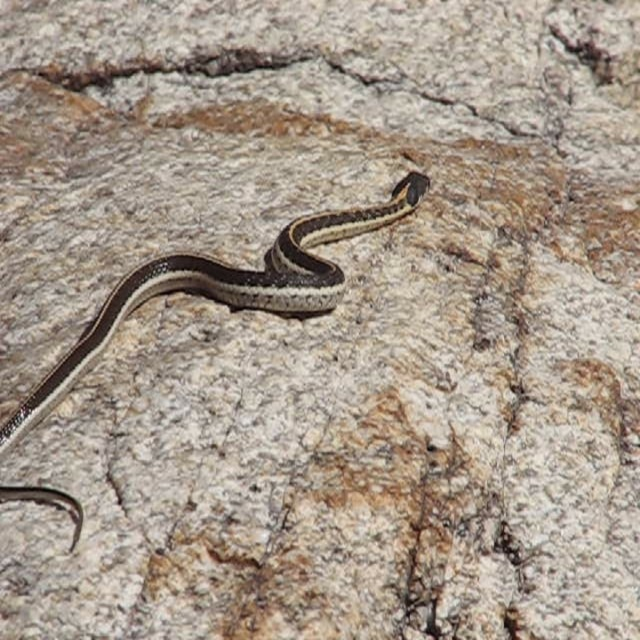Snake: (0, 172, 428, 552)
